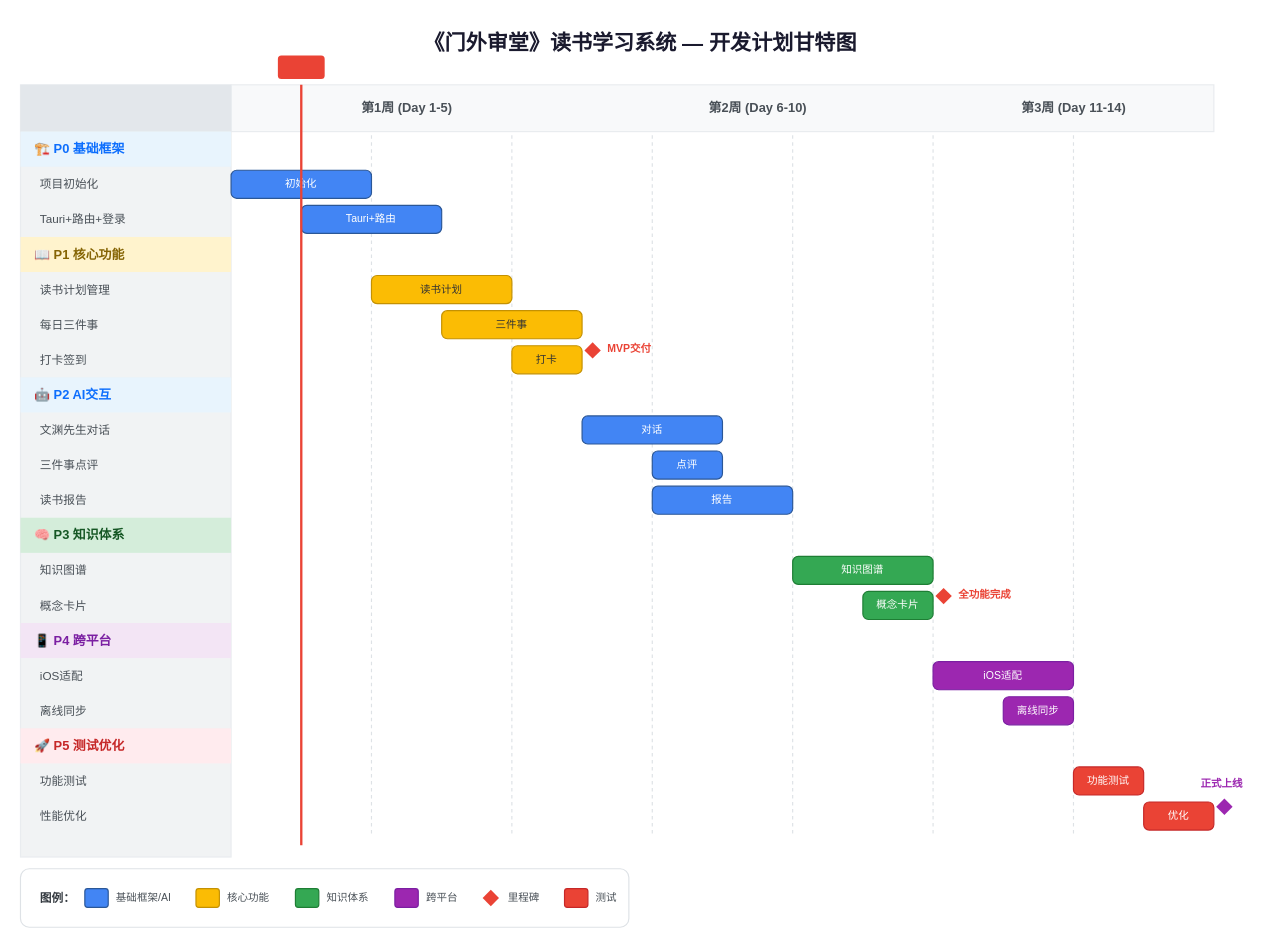
This 1281x948 diagram has some shape labels left out. Here are the shapes that lost their labels. From the top down, the box of each, then its label:
(277, 55, 324, 78): 今日
(20, 84, 230, 131): 任务名称
